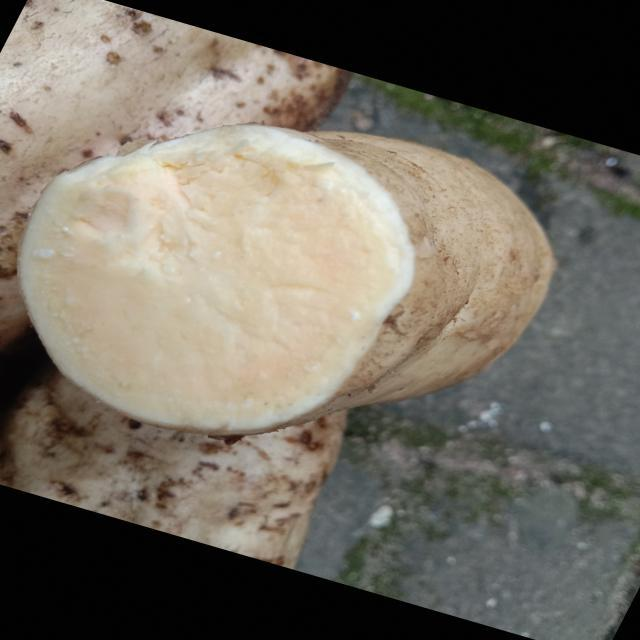Healthy Sweet Potato: (20, 125, 413, 431)
